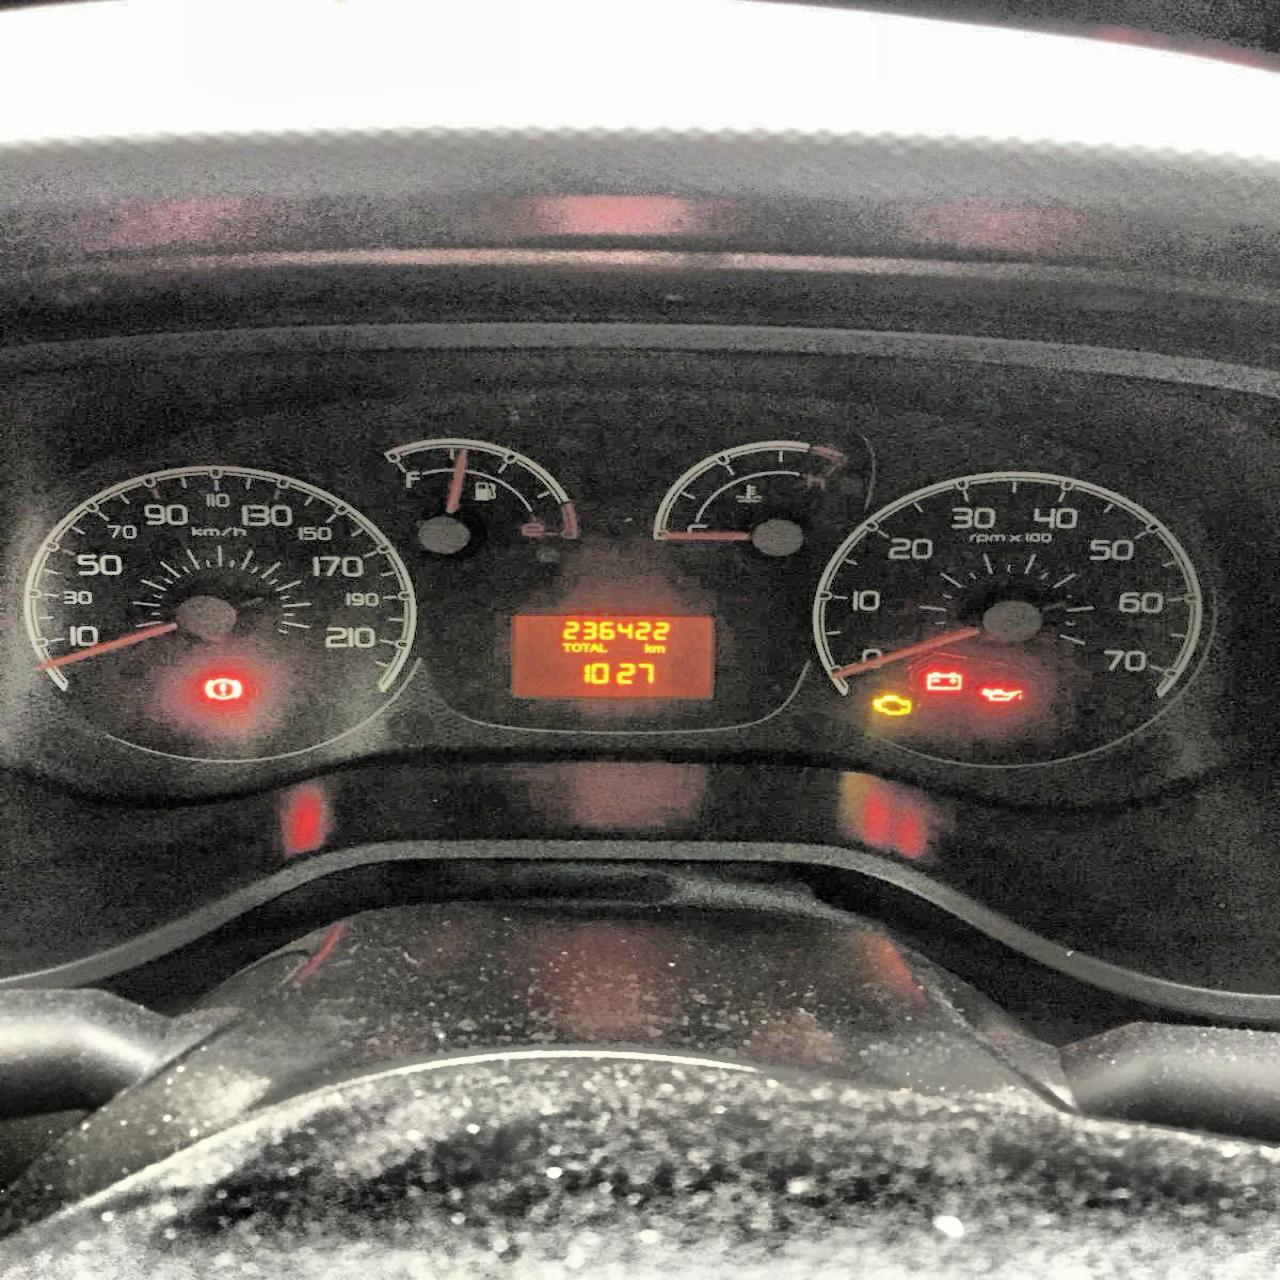0: (590, 662, 611, 685)
1: (580, 662, 590, 683)
2: (615, 661, 635, 685), (561, 618, 580, 640), (653, 618, 670, 641), (636, 619, 653, 640)
3: (581, 619, 598, 639)
4: (615, 621, 635, 640)
6: (599, 620, 615, 640)
7: (638, 660, 655, 686)
X: (644, 642, 654, 653), (588, 641, 599, 652), (653, 644, 663, 653), (598, 641, 607, 652), (561, 641, 571, 652), (571, 641, 580, 652), (581, 641, 590, 652)
odometer: (515, 614, 710, 697)
